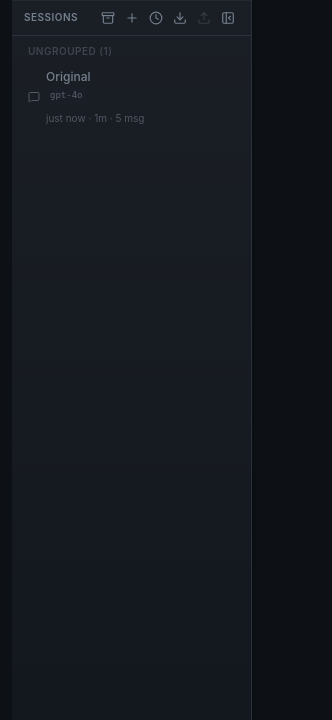
Test: Sidebar — inline rename › shows rename input when rename clicked
This screenshot has width=332, height=720.
Right-click the button "Original gpt-4o just now · 1m · 5 msg" at (132, 97), box [20,63,243,131]
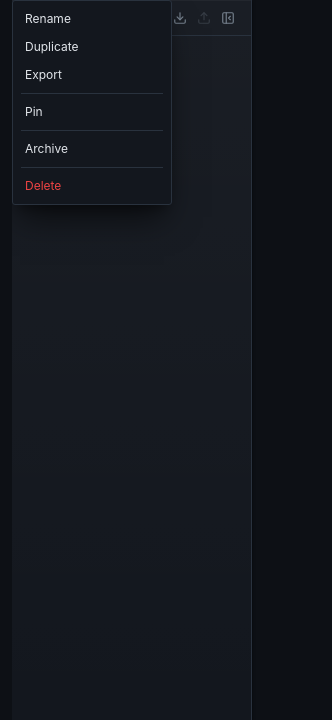
Click the button "Rename" at (92, 19), box [13,5,171,33]
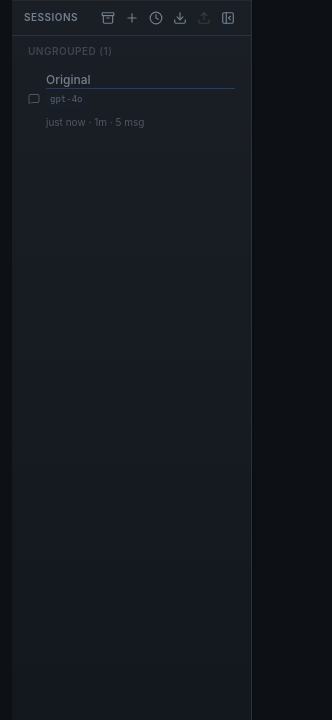
Expected: the field showing "Original" is shown, [46,72,235,89]
